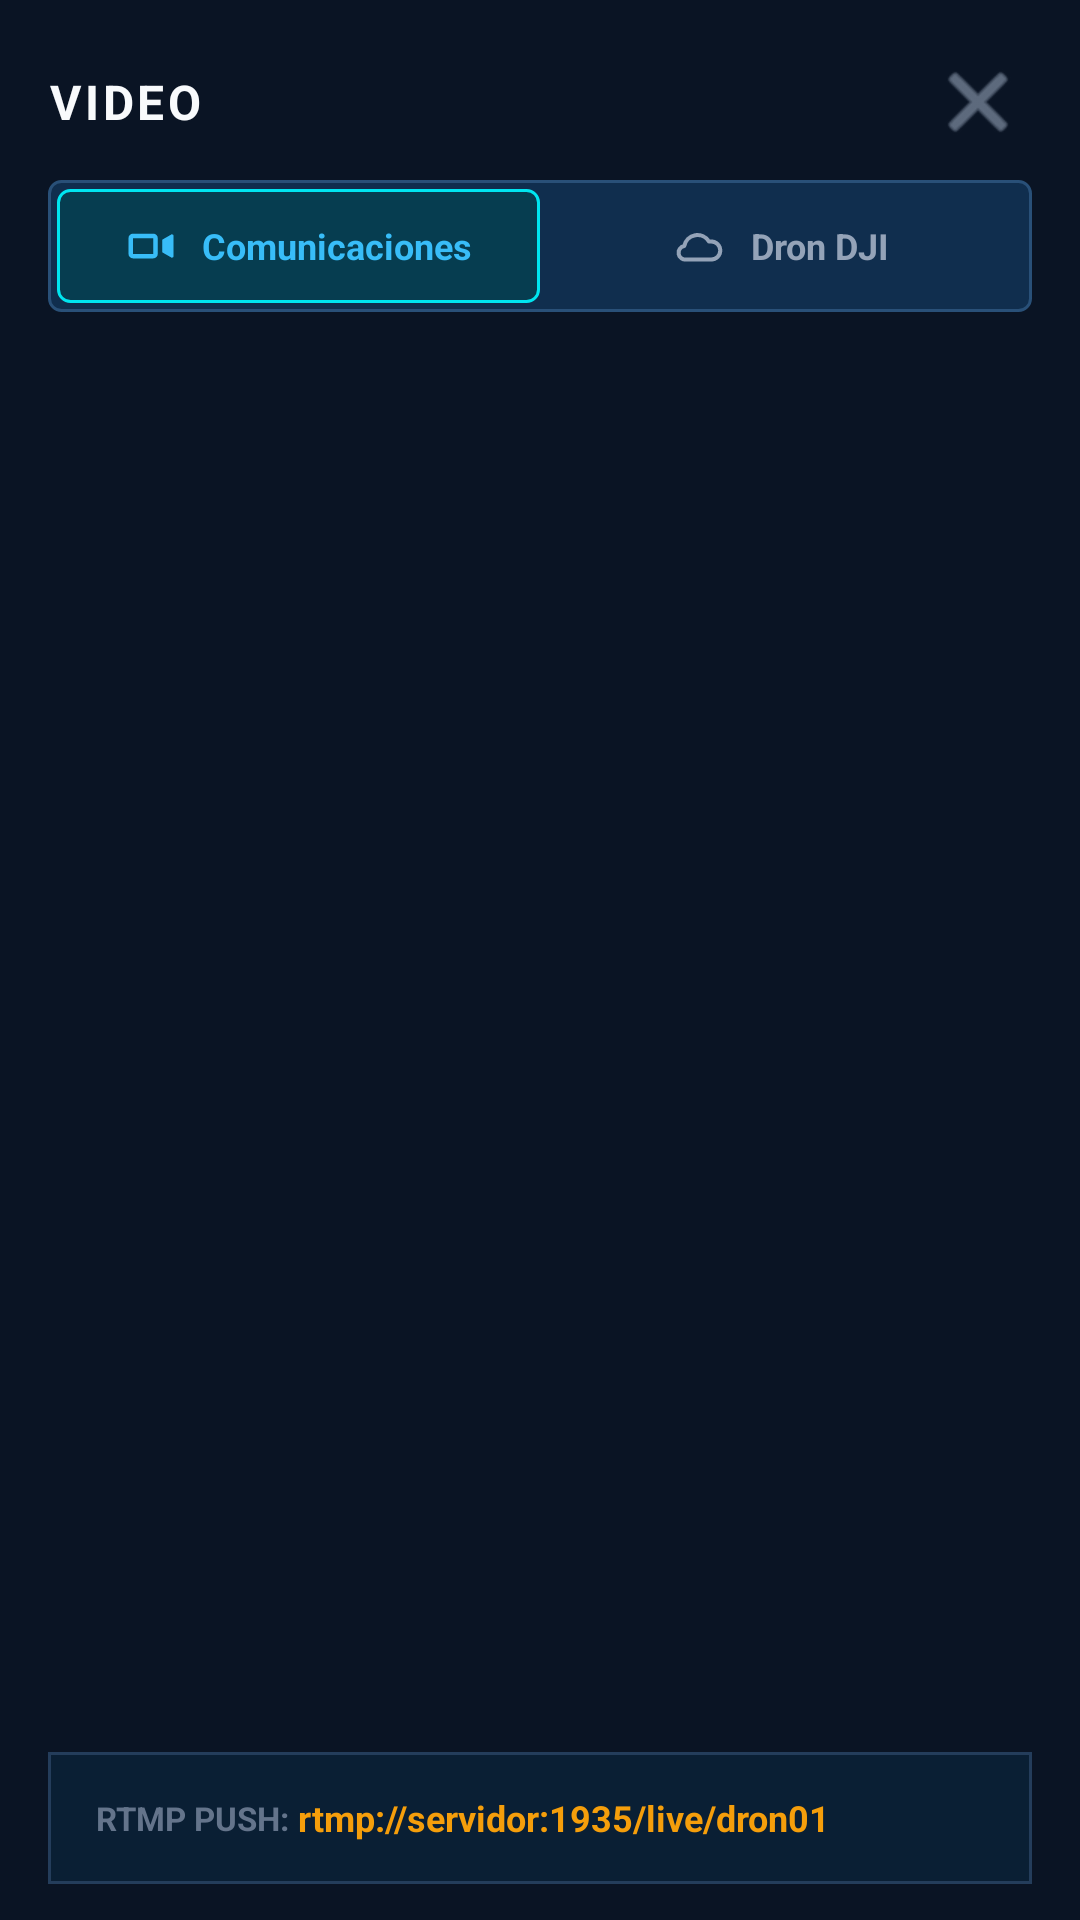

Screen size 1080x1920. Icon name, then its box in pixels as [x1, y1, x2, y2]:
Cerrar modal de video: [948, 72, 1008, 132]
